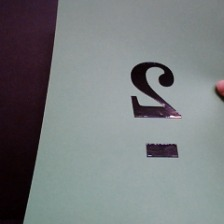green2: (126, 59, 190, 162)
